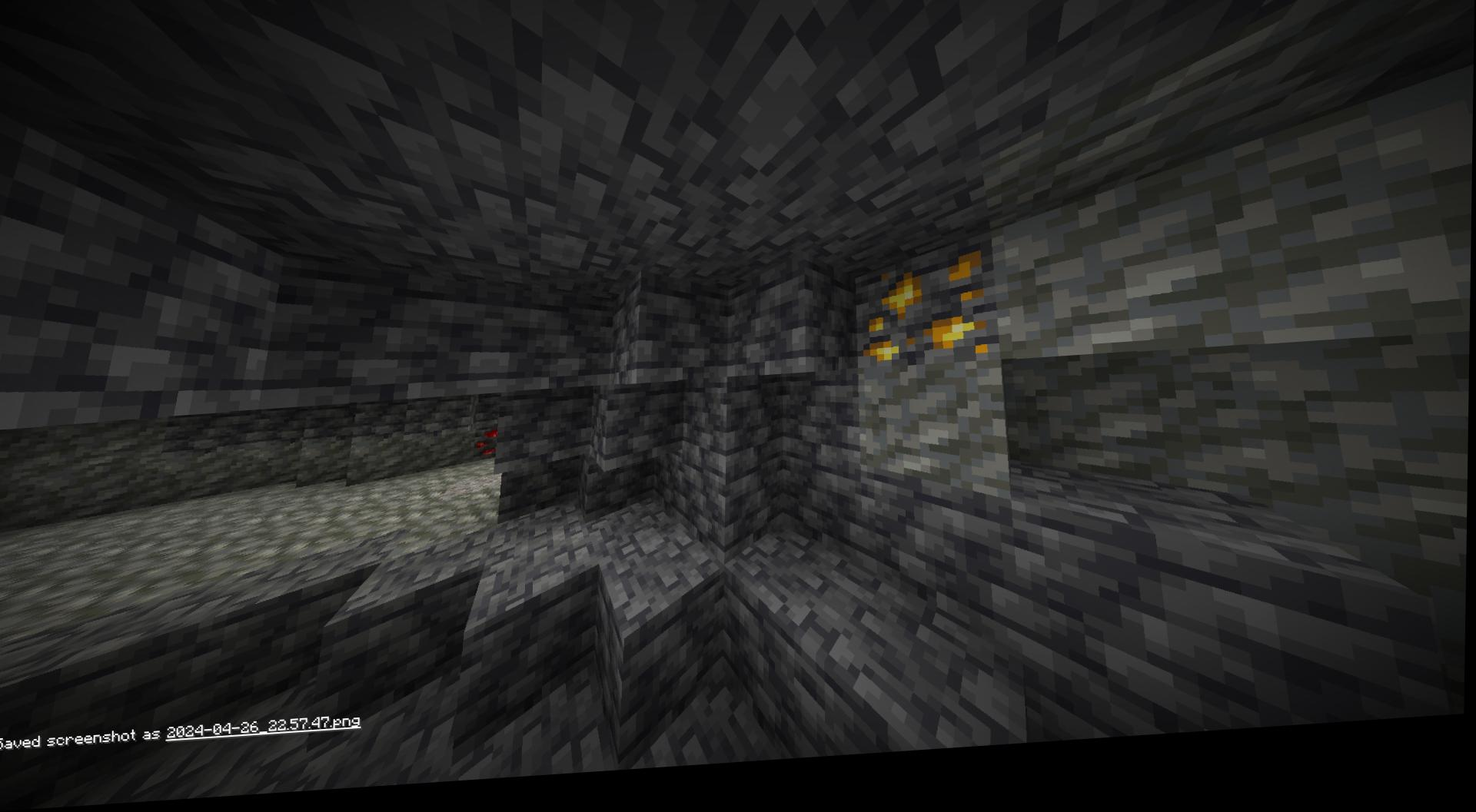gold ore: (852, 262, 1002, 374)
redstone ore: (471, 423, 503, 469)
